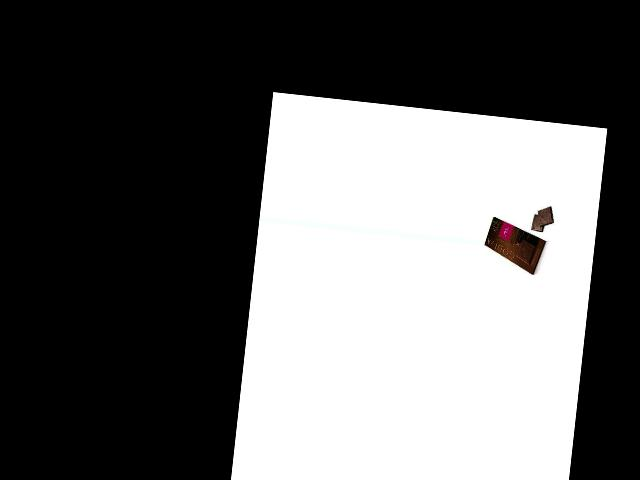chocolate: (481, 214, 549, 276)
